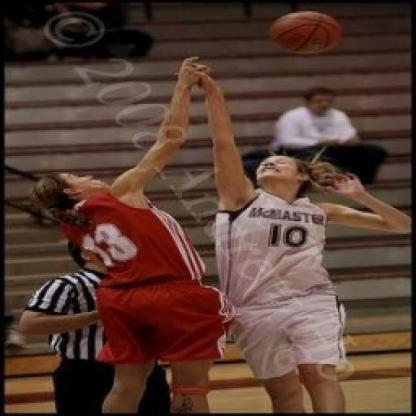basketball: (263, 7, 348, 60)
